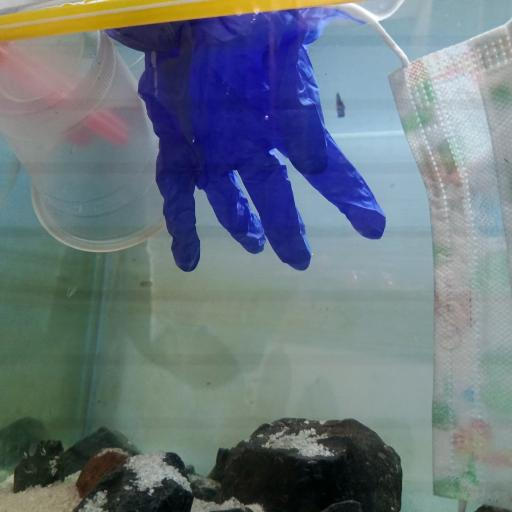glove: (113, 10, 385, 270)
mask: (379, 16, 512, 508)
plastic_cup: (0, 28, 164, 256)
plastic_straw: (2, 2, 352, 46), (6, 44, 128, 140)
